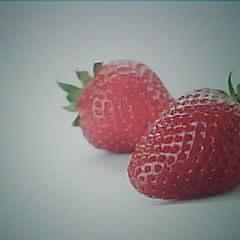straw-ripe: (127, 90, 240, 200), (80, 61, 176, 152)
